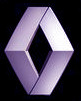Renault: (3, 5, 77, 99)
